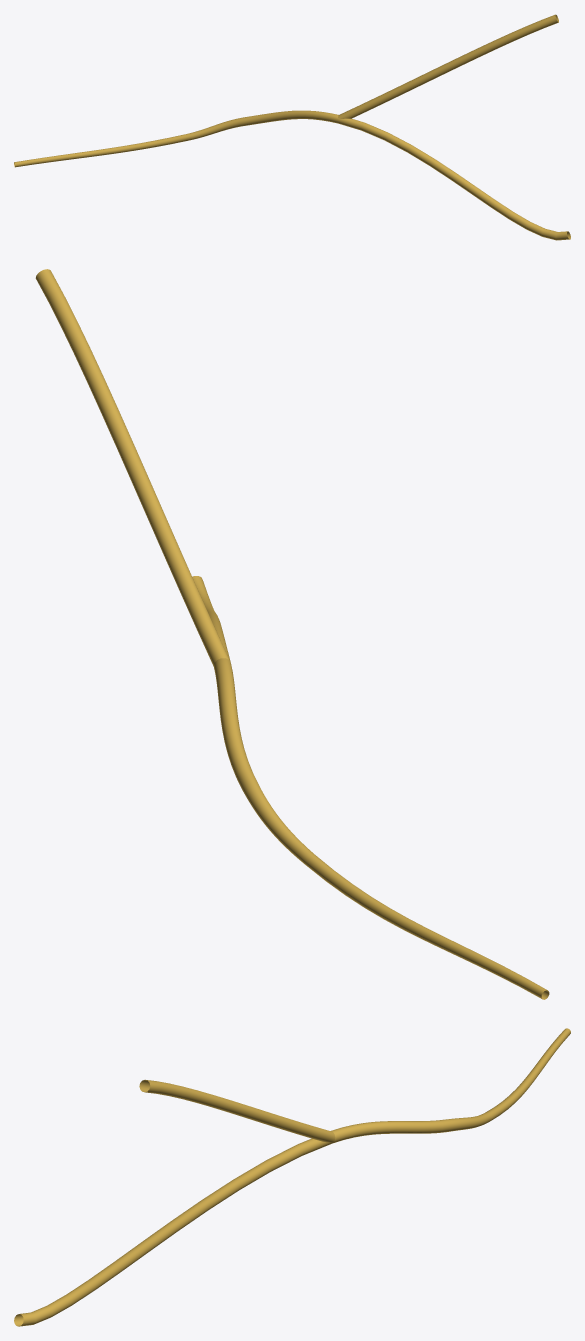
3 views of the same model, one above another, from view 1: azimuth 30°, elevation 25°; view 2: azimuth 150°, elevation 25°; view 3: azimuth 270°, elevation 25° (orthographic). The views are drawn at different scales.
Parts seen in each view (by area): view 1: 右侧梨状肌神经; view 2: 右侧梨状肌神经; view 3: 右侧梨状肌神经.
Boxes of the visible parts, bbox=[...] form: 右侧梨状肌神经: bbox=[14, 14, 570, 240]; 右侧梨状肌神经: bbox=[35, 269, 549, 999]; 右侧梨状肌神经: bbox=[14, 1028, 570, 1326].
Bounding box in the file's own units: 0.0775 × 0.0346 × 0.0646.
